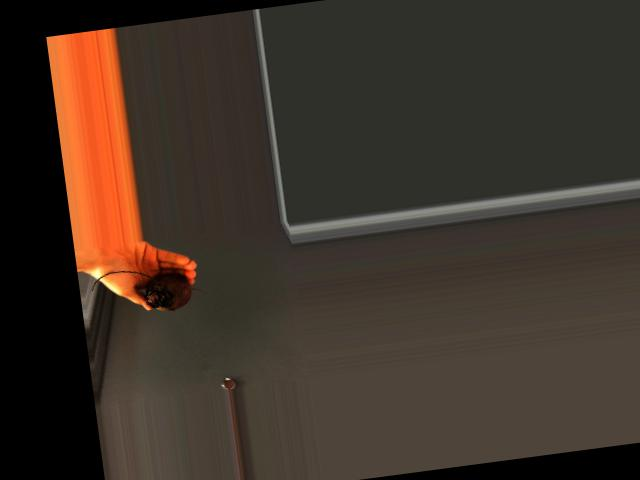beet: (90, 259, 205, 319)
